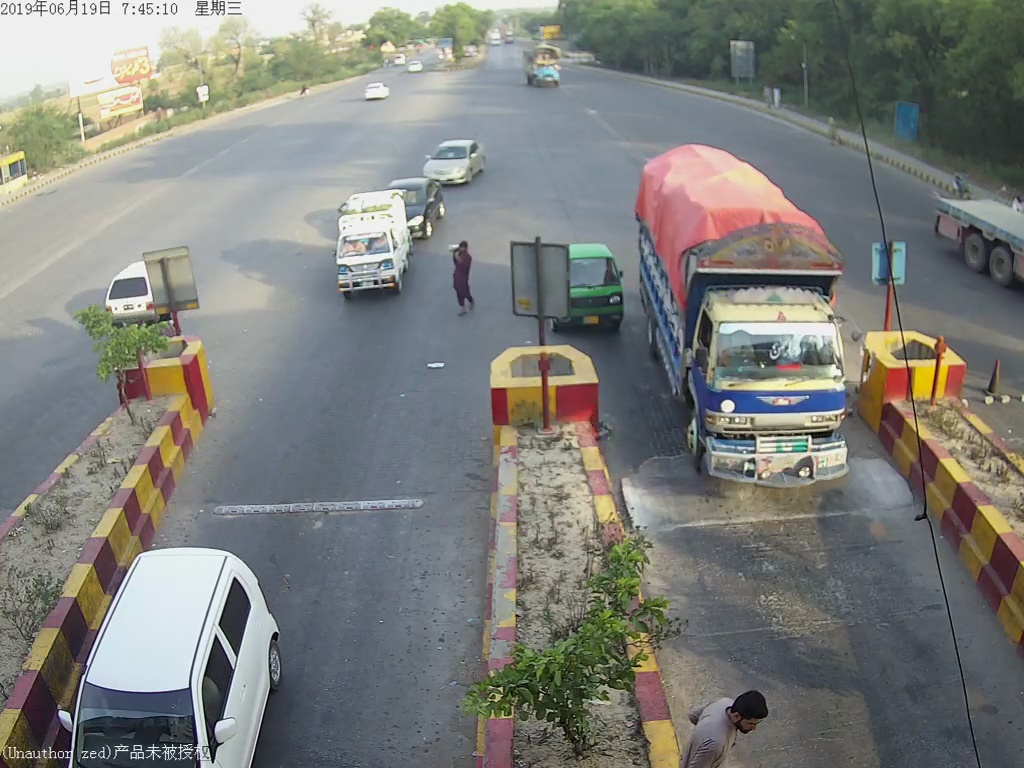Cat-1: (329, 192, 404, 300), (421, 132, 475, 186)
Cat-4: (641, 159, 865, 514)
